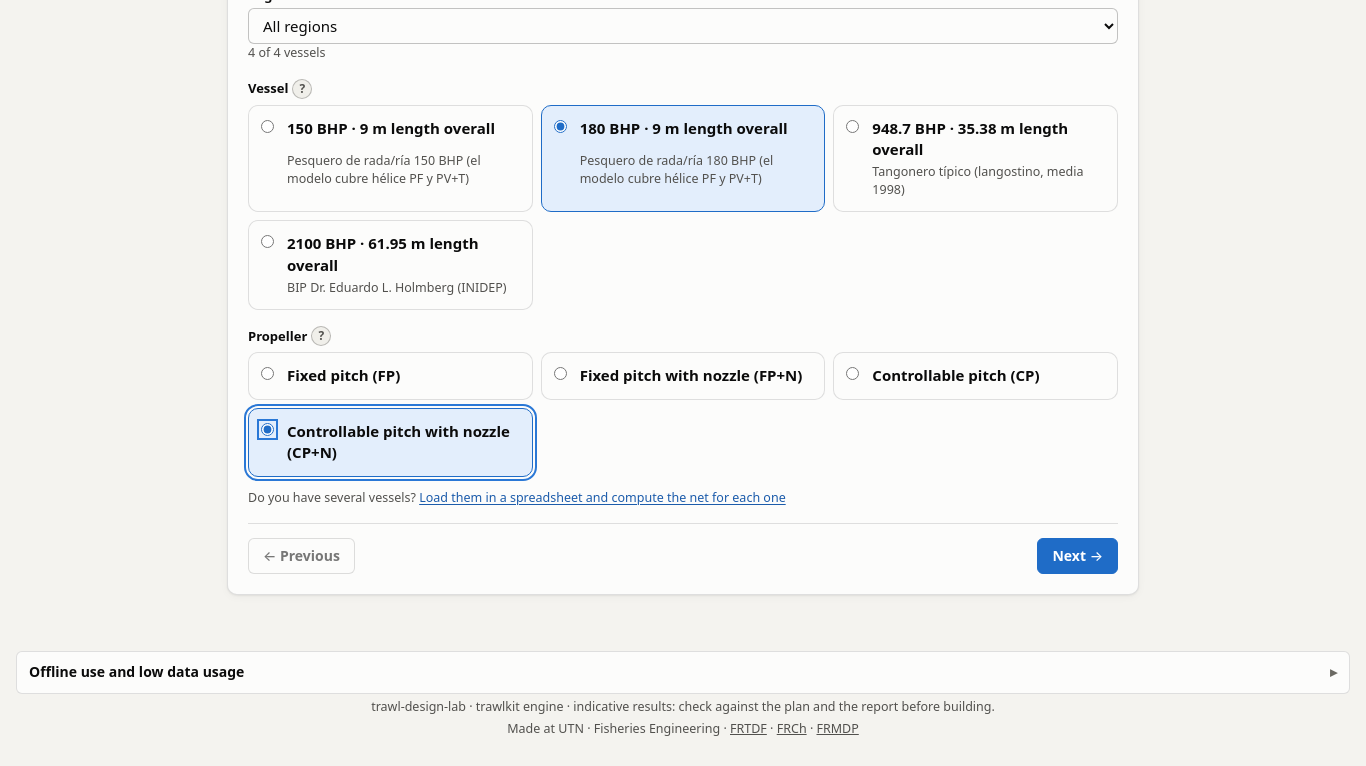
Test case: guided mode in English › walks the four steps and shows the diagnosis in English
Earlier steps of the test are not shown.
(page scrolled)
Click the button "Next →" at (1078, 556), box [1038,538,1118,574]
(page scrolled)
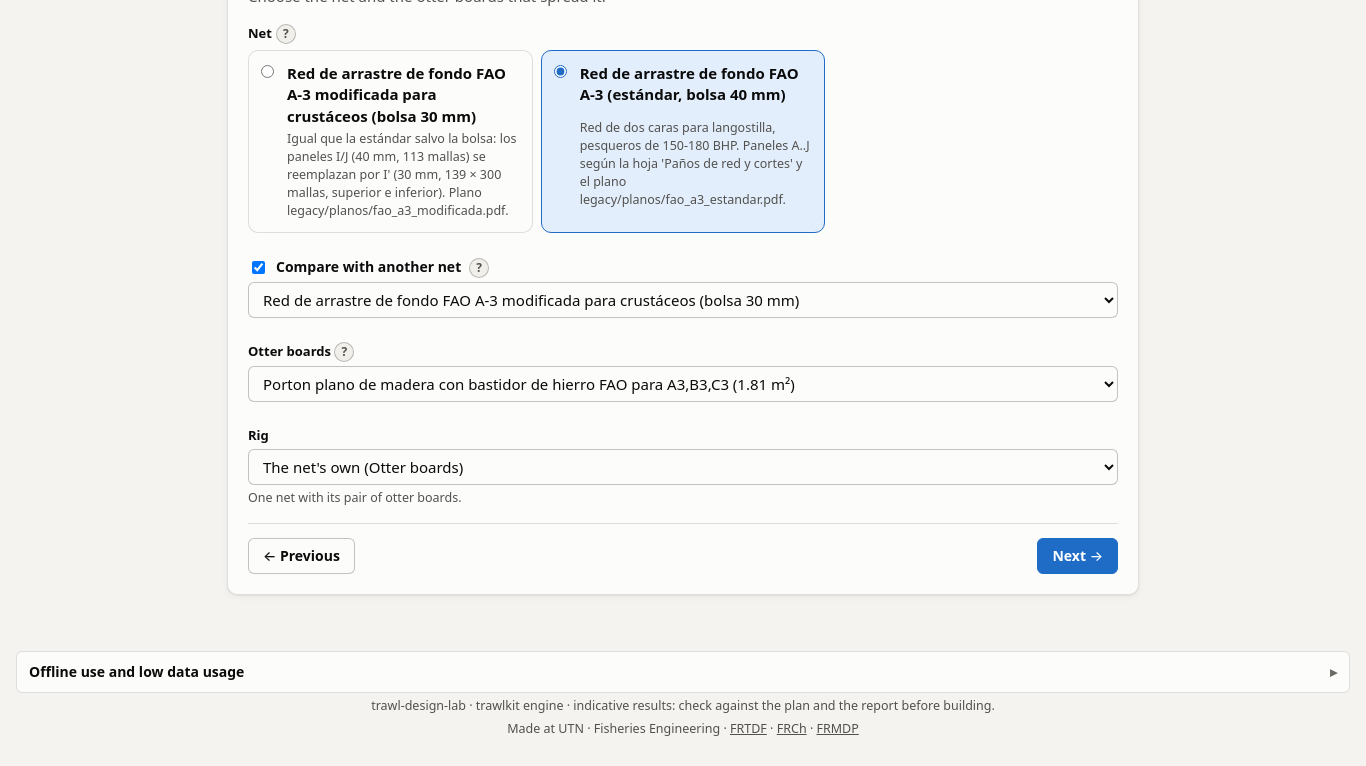
Check: the checkbox labelled "Compare with another net ?" is checked, box [252,261,265,274]
Check: the dropdown labelled "Otter boards ?" is shown, box [248,366,1118,402]
Click the button "Next →" at (1078, 556), box [1038,538,1118,574]
(page scrolled)
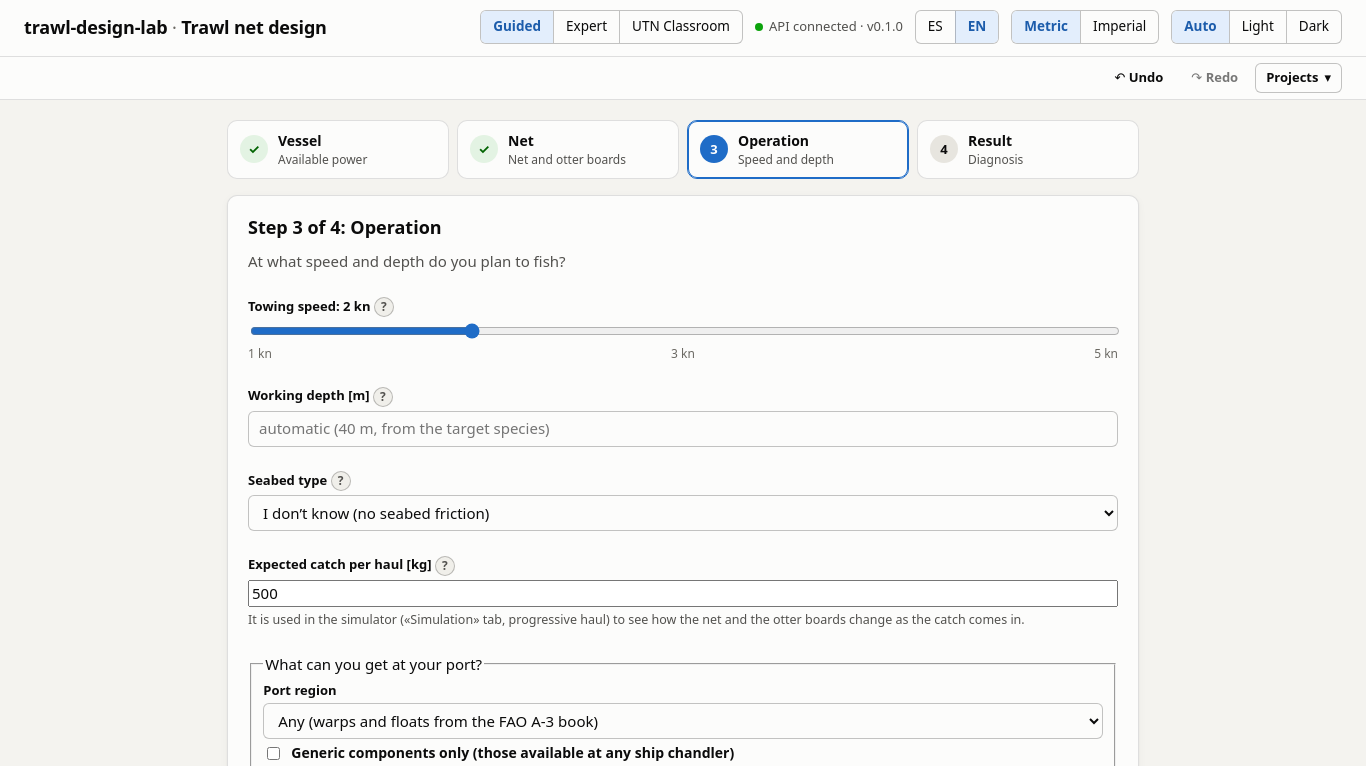
Check: the heading "Step 3 of 4: Operation" is shown, box [248,215,442,239]
Set the slider labelled "Towing speed: 2 kn ?" to "1.5" at (365, 331), box [250,323,1120,339]
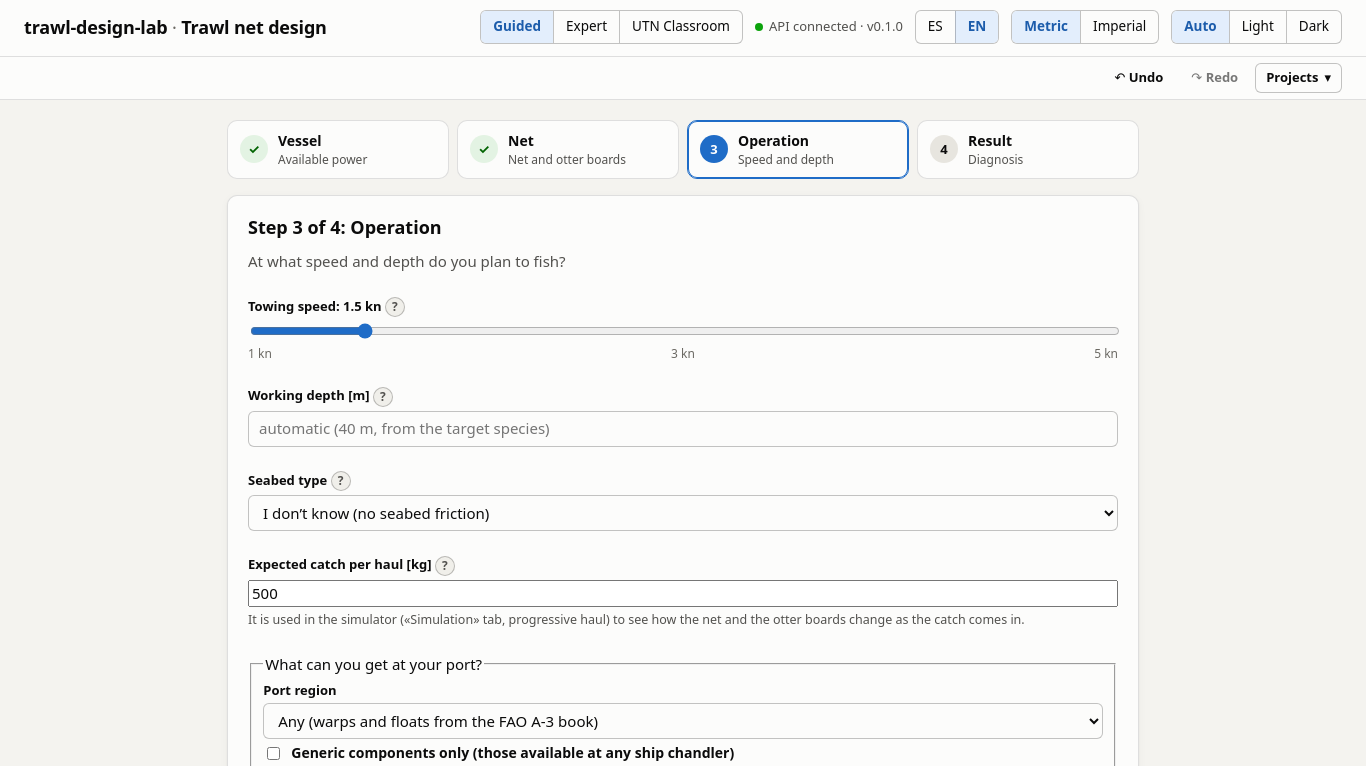
Check: the text "1.5 kn" is shown, box [343,296,382,314]
Type "2000" into the field labelled "Working depth [m] ?" at (683, 429), box [248,411,1118,447]
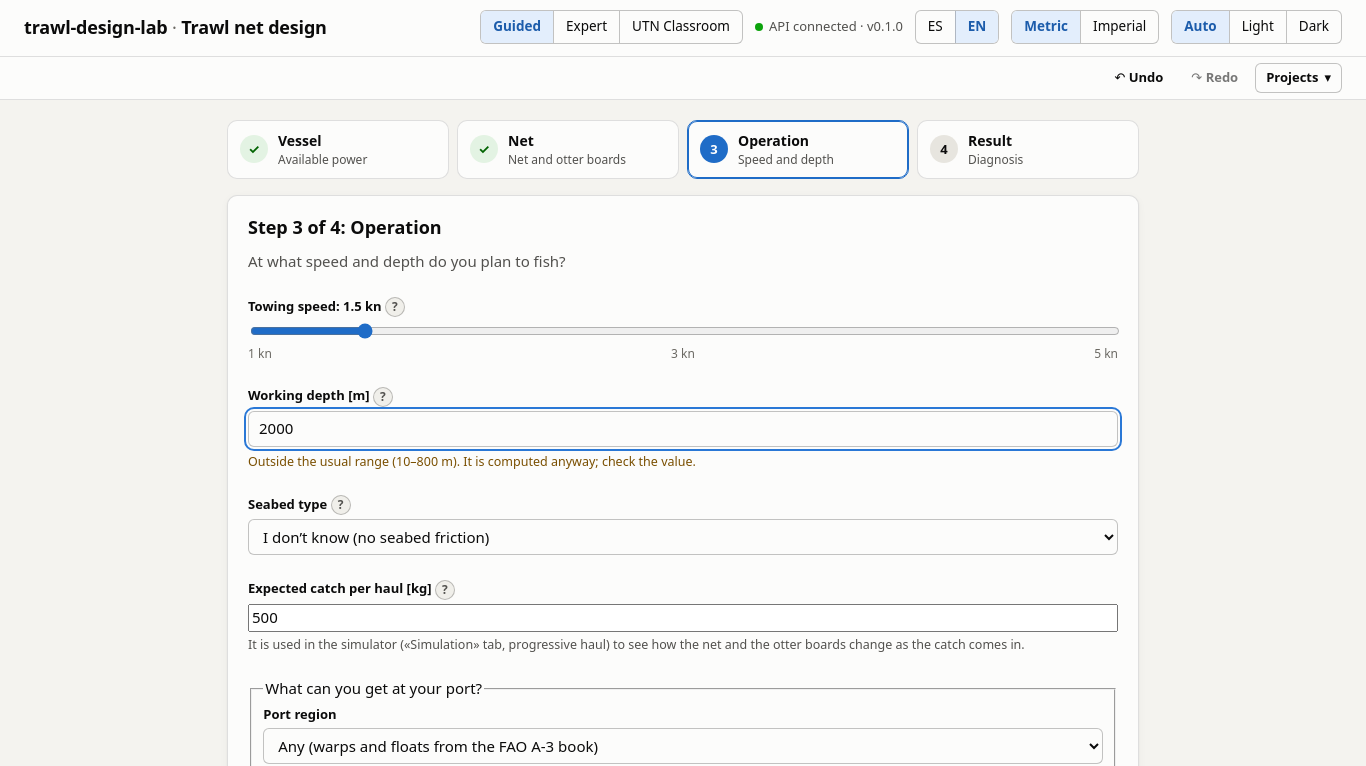
Check: the text "Outside the usual range (10–800 m)" is shown, box [248,453,696,470]
Clear the field labelled "Working depth [m] ?" at (683, 429), box [248,411,1118,447]
(page scrolled)
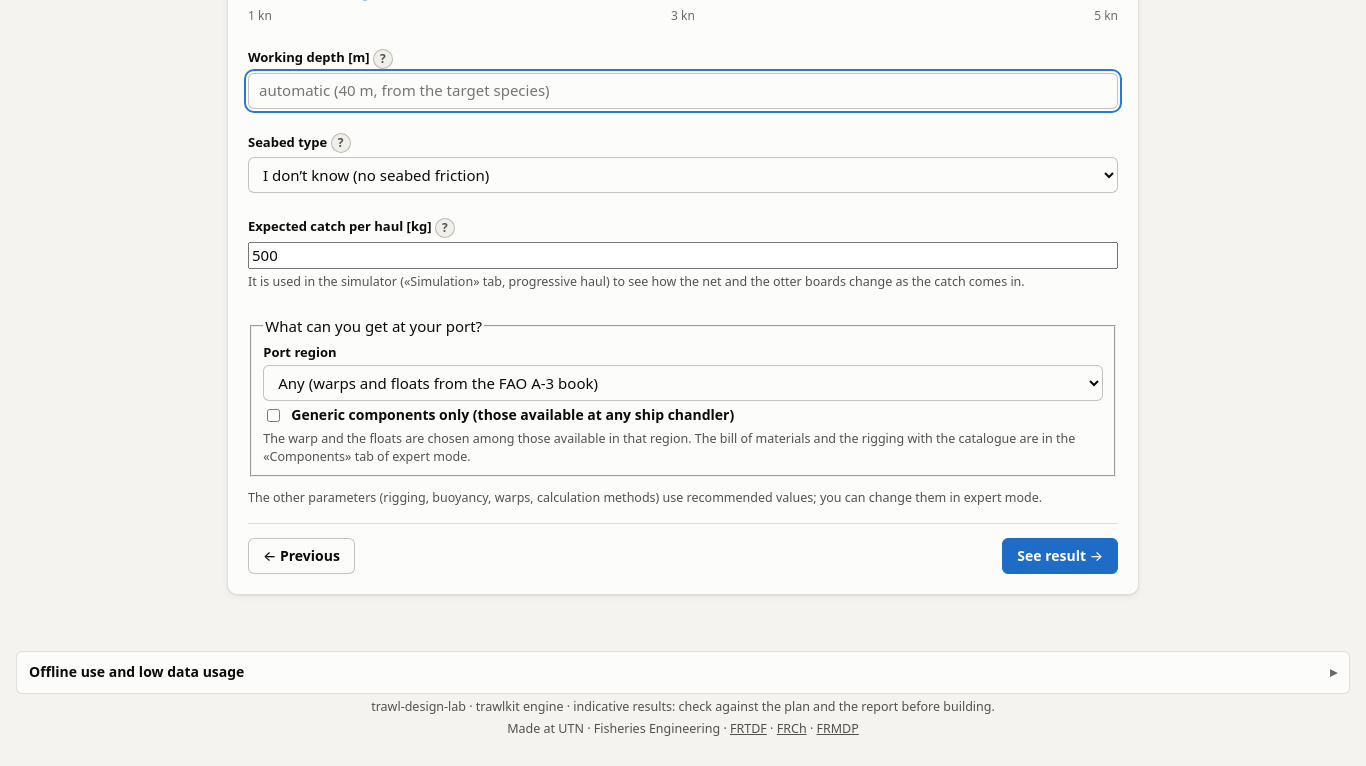
Click the button "See result →" at (1060, 556), box [1002,538,1118,574]
(page scrolled)
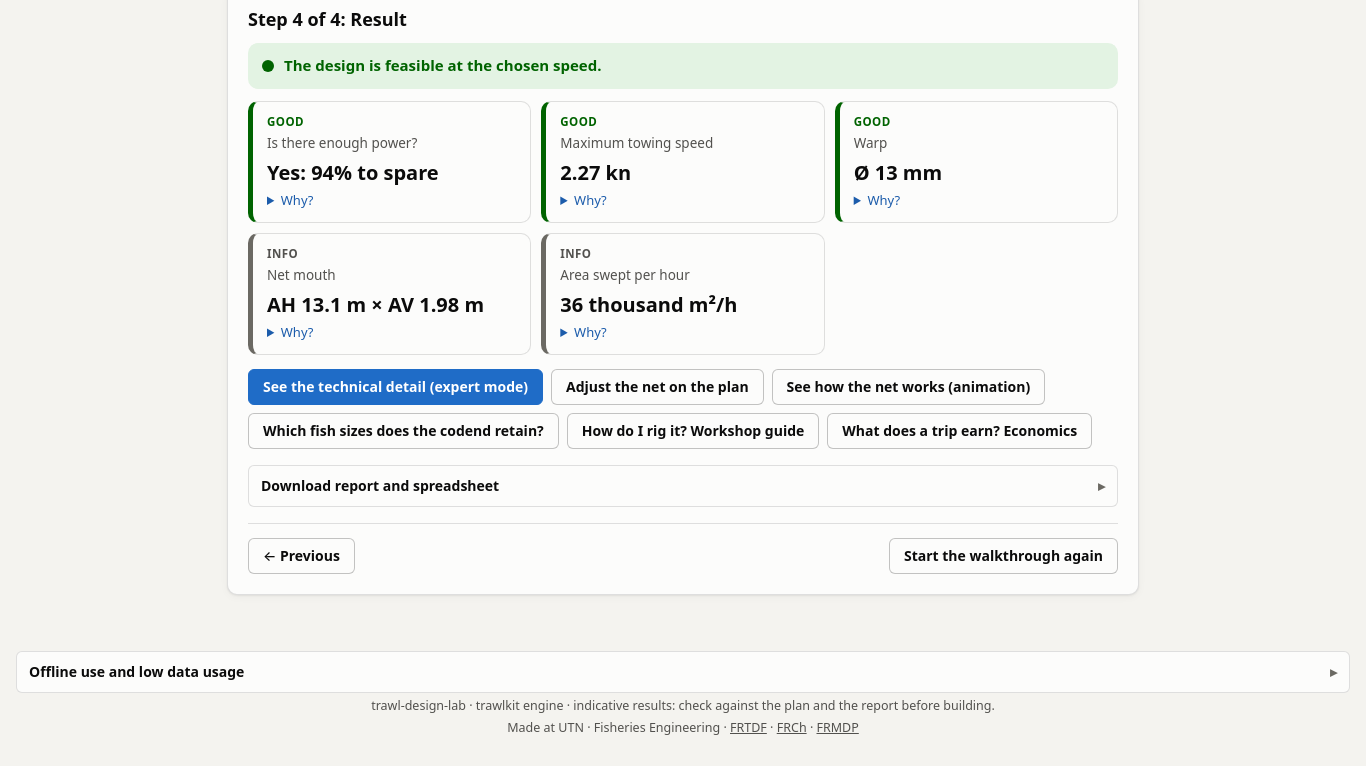
Check: the heading "Step 4 of 4: Result" is shown, box [248,7,407,31]
Check: the text "Yes: 94% to spare" is shown, box [267,159,439,186]
Check: the text "2.27 kn" is shown, box [560,159,631,186]
